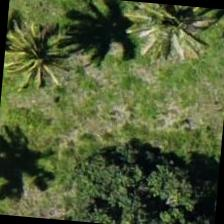Kelapa_Sawit: (103, 0, 200, 79), (0, 11, 70, 106)
